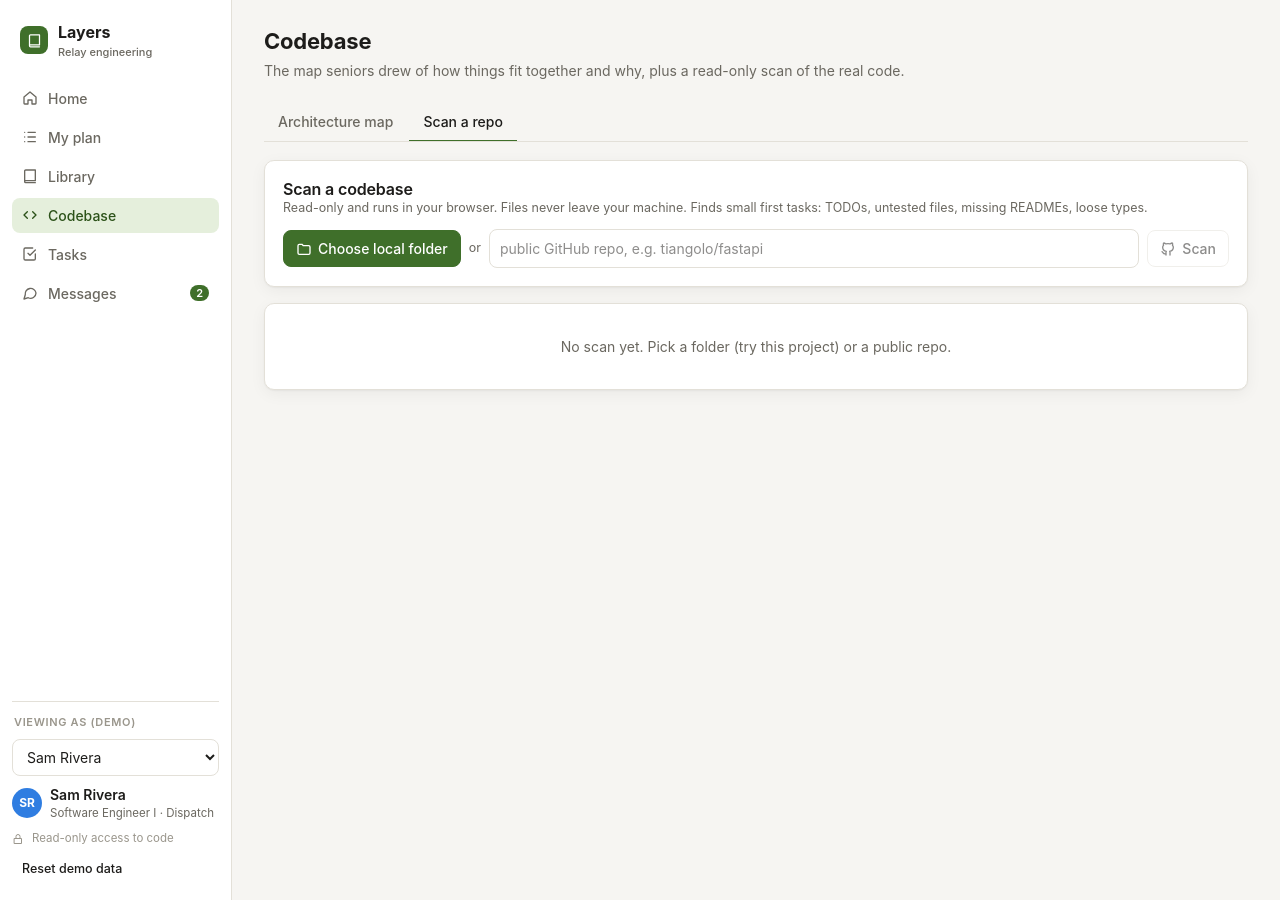
Codebase scanner › scans a public GitHub repo and lets a hire pick up a finding
Type "github.com/acme/app" into the field with placeholder "public GitHub repo, e.g. tiangolo/fastapi".
click(814, 249); type("github.com/acme/app")  # box [489,229,1139,268]
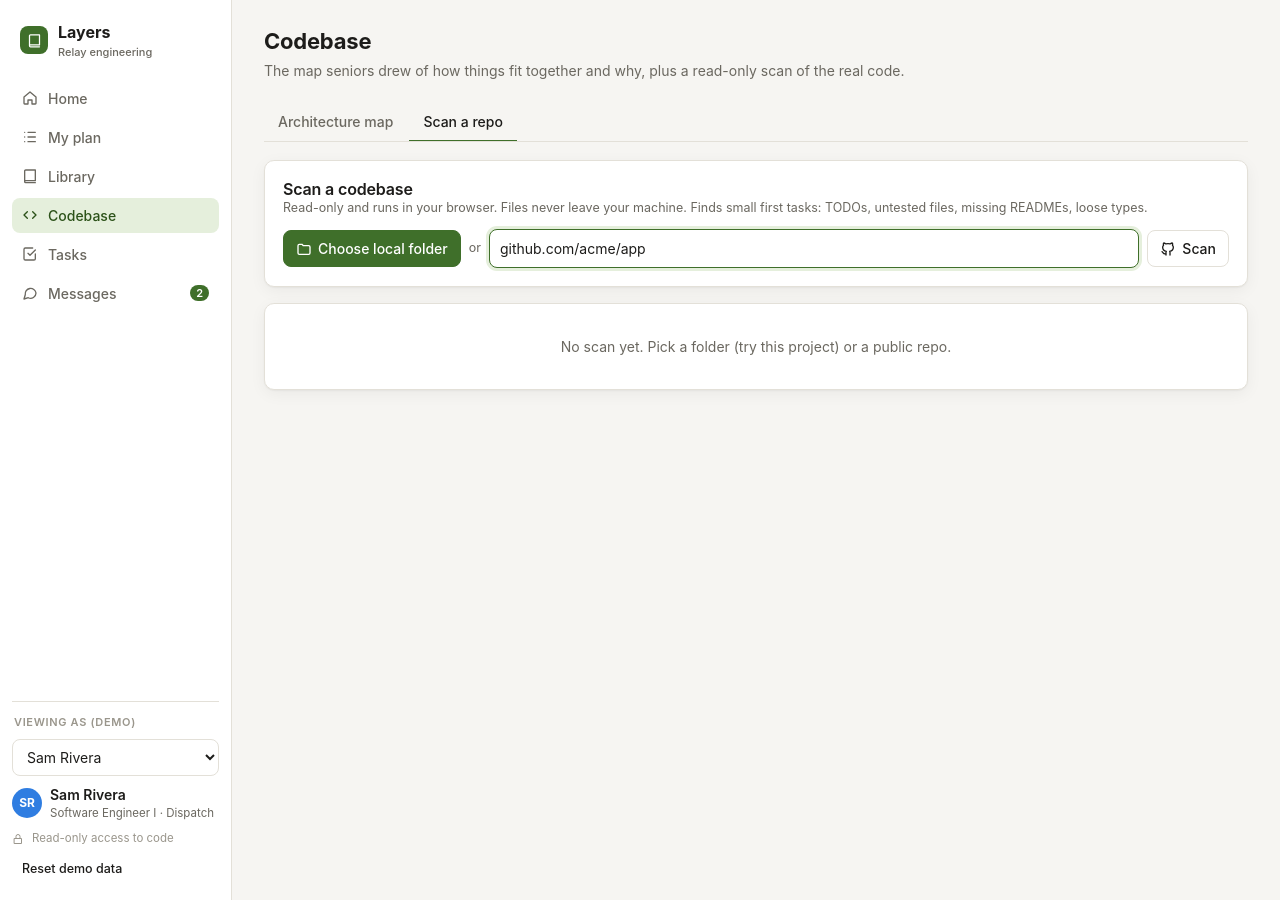
Click the button "Scan".
click(1188, 249)  # box [1147,230,1229,267]
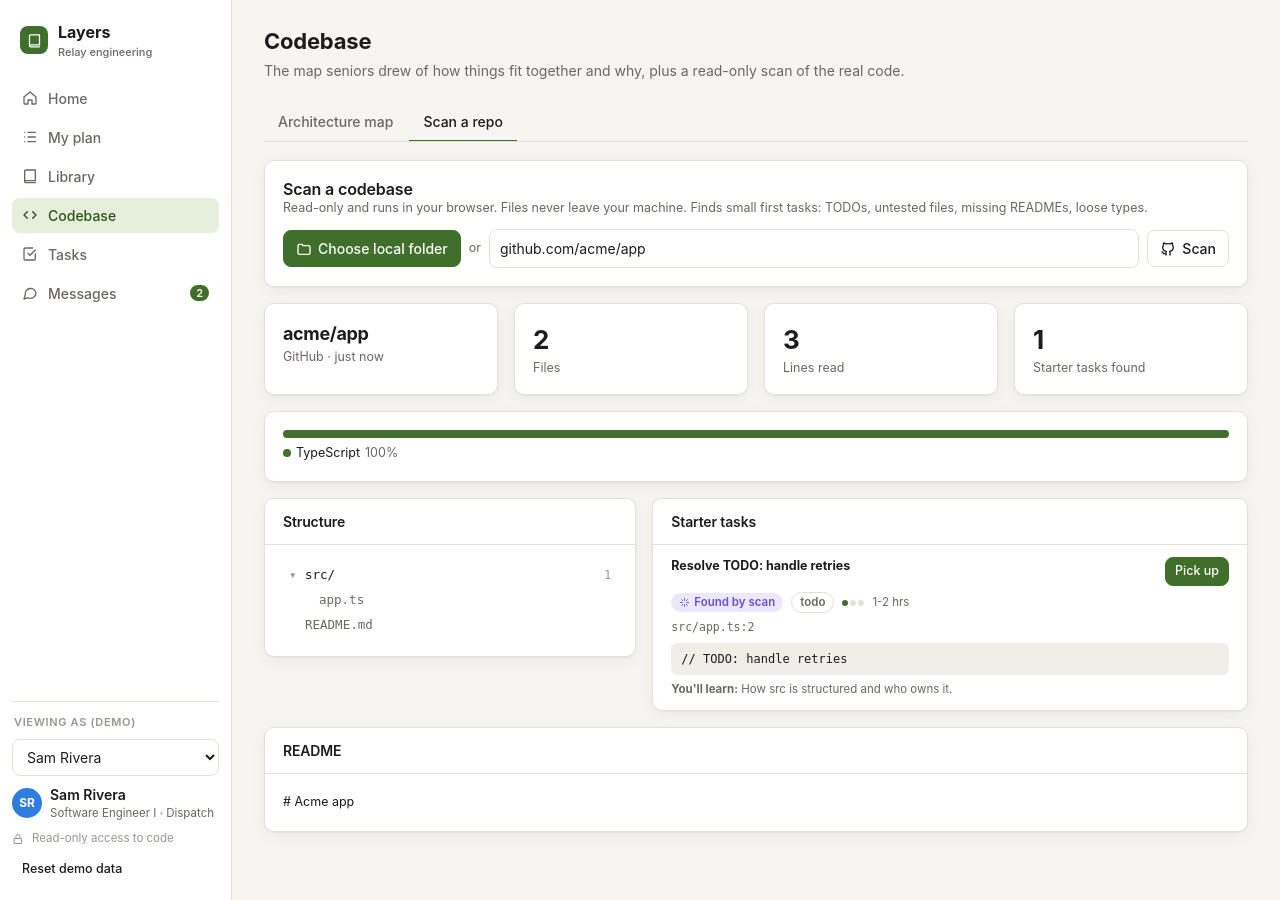
Check: the text "acme/app" is shown, box [283,323,368,344]
Check: the text "2" next to "just now" is shown, box [533,324,549,355]
Check: the heading "README" is shown, box [283,742,342,759]
Click the button "Pick up".
click(1197, 572)  # box [1165,557,1229,586]
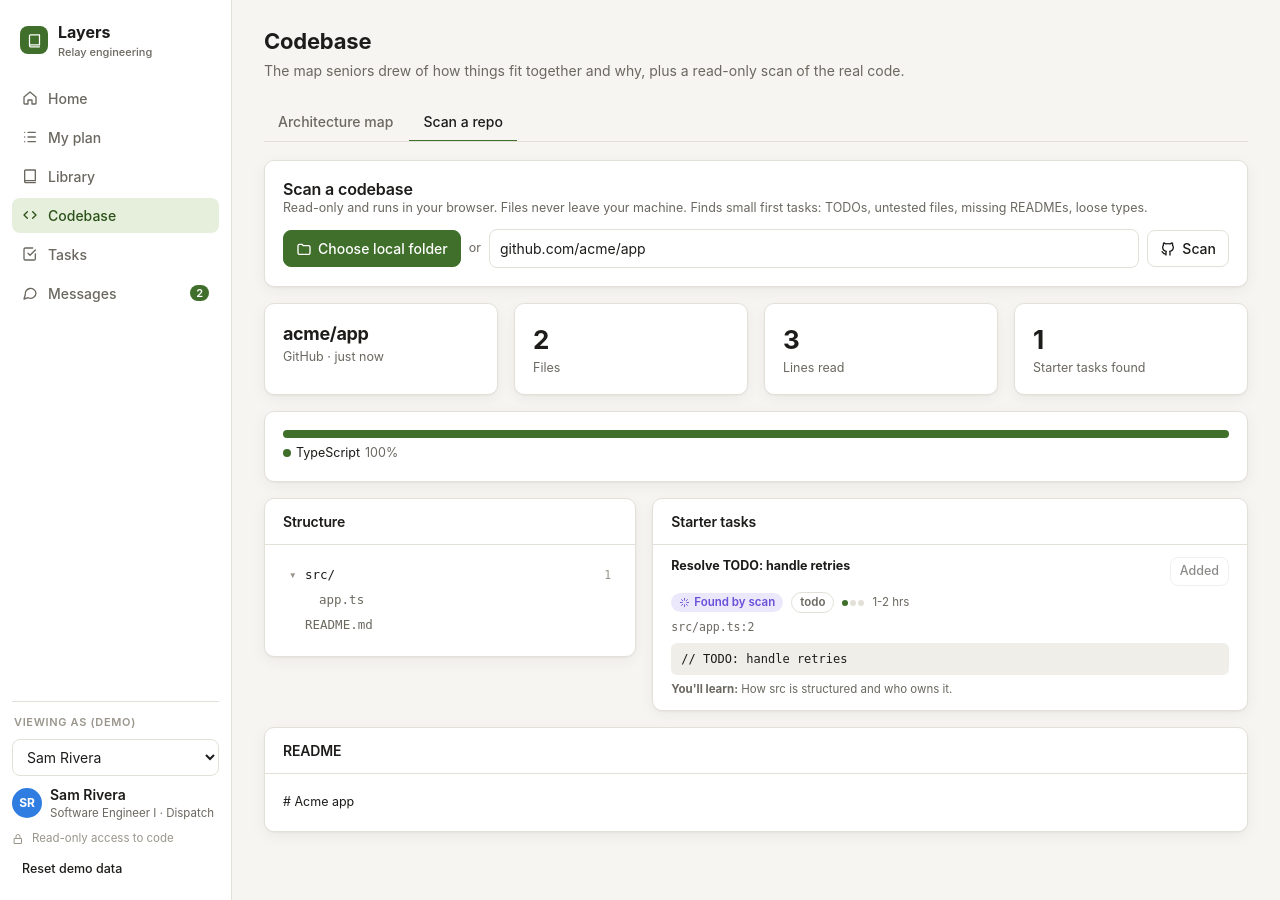
Check: the button "Added" is disabled, box [1170,557,1229,586]
